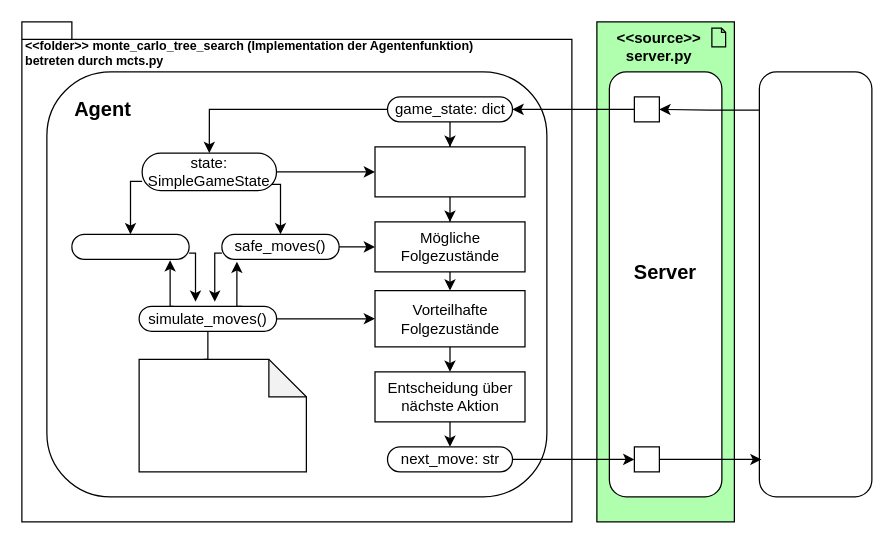
Some shapes in this 894 by 544 pixel diagram are drawn without their labels. The shapes that lost their labels are listed below. From the top down, each one's centre as x and y in pixels, then its label:
At point (449, 171): "Umgebungszustand".
At point (130, 246): "heuristic()".
At point (815, 284): "Umgebung (Spielinstanz)".
At point (222, 415): "Berechnung nach Monte-Carlo-Sampling begrenzter Tiefe".
